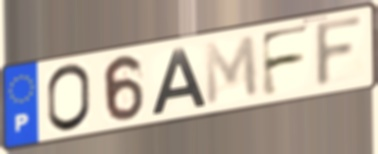6: (100, 52, 147, 125)
A: (148, 46, 209, 118)
F: (313, 12, 368, 93), (258, 22, 314, 101)
M: (203, 33, 262, 109)
O: (45, 62, 93, 135)
